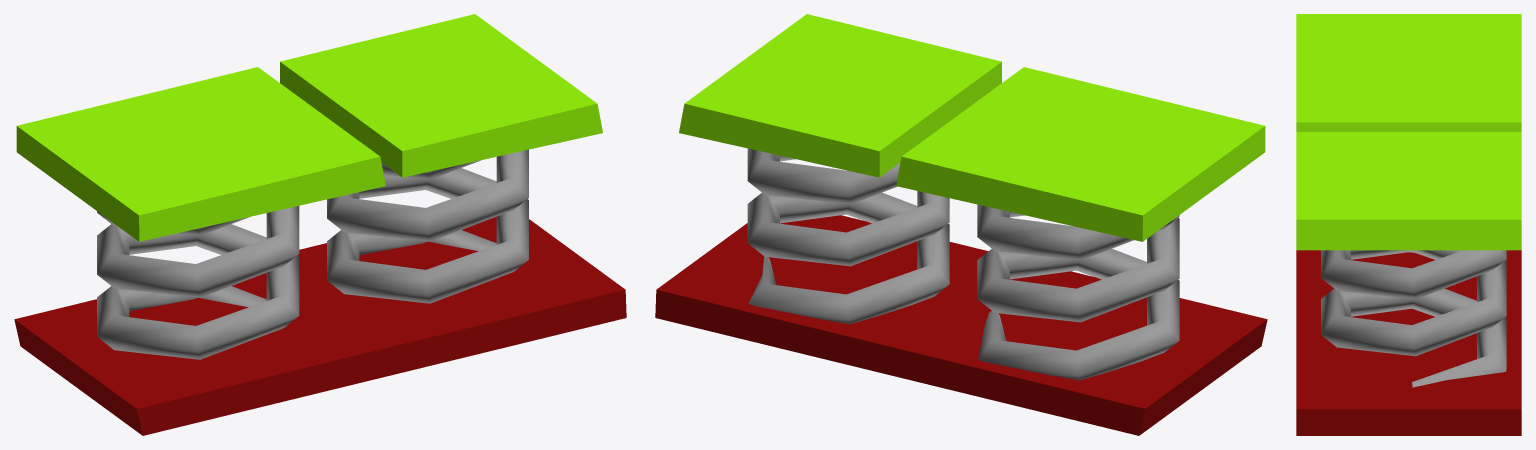
The model's file is SM_bouncy_1.FBX.
3 renders of one model, left to right at view 1: azimuth 30°, elevation 25°; view 2: azimuth 150°, elevation 25°; view 3: azimuth 270°, elevation 25°, orthographic. The views are drawn at different scales.
Visible parts, largest first — view 1: SM_bouncy_1; view 2: SM_bouncy_1; view 3: SM_bouncy_1.
Boxes of the visible parts, <box> form: SM_bouncy_1: <box>14,14,626,435</box>; SM_bouncy_1: <box>655,14,1267,435</box>; SM_bouncy_1: <box>1296,14,1521,435</box>.
Size of the model in its own units: 231 by 99.74 by 100.
